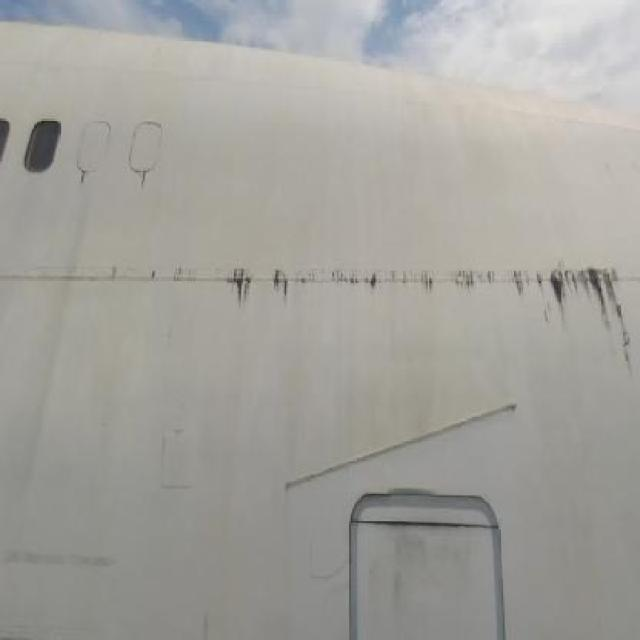Rust: (216, 244, 636, 370), (78, 163, 90, 188), (138, 172, 148, 194)
Scartch: (388, 530, 489, 605), (9, 537, 136, 592)
